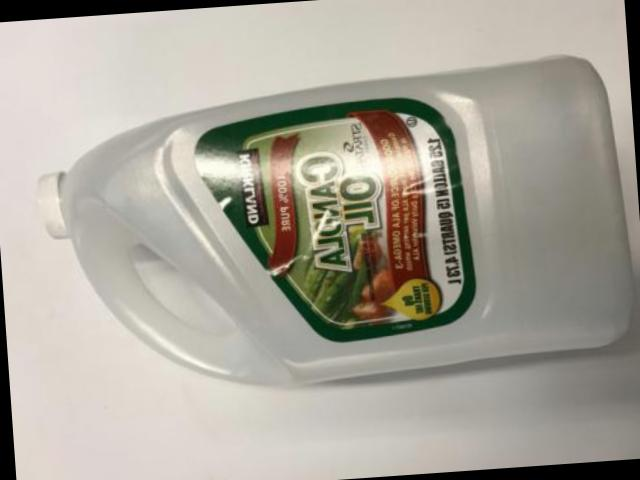plastic: (38, 60, 629, 387)
